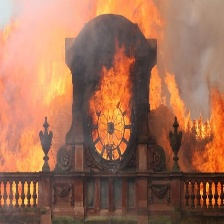fire: (140, 1, 224, 205), (90, 40, 138, 163), (1, 121, 52, 204), (26, 42, 69, 100)
smoke: (162, 2, 224, 93)
